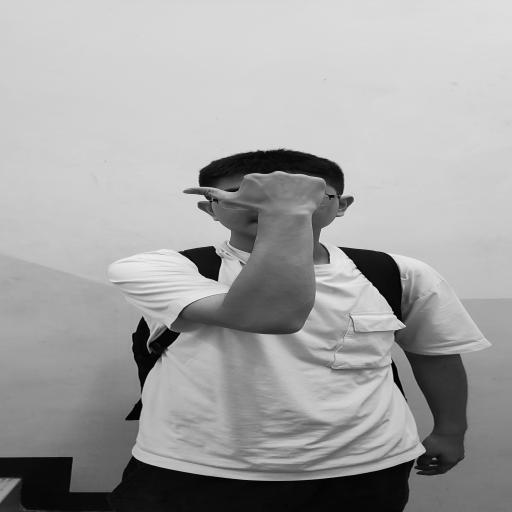back: (177, 161, 353, 229)
